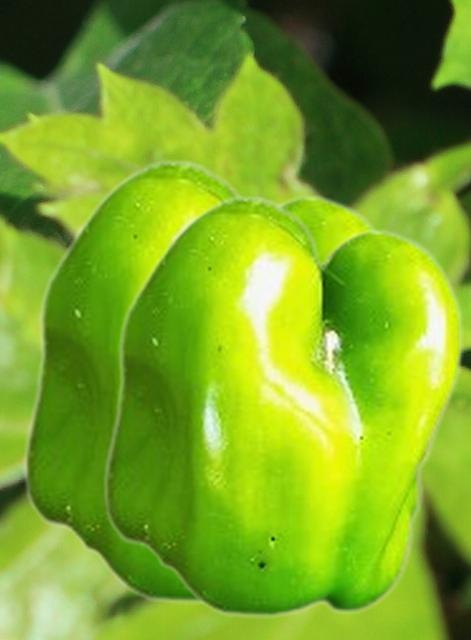bell_pepper: (22, 158, 381, 603), (102, 194, 462, 617)
